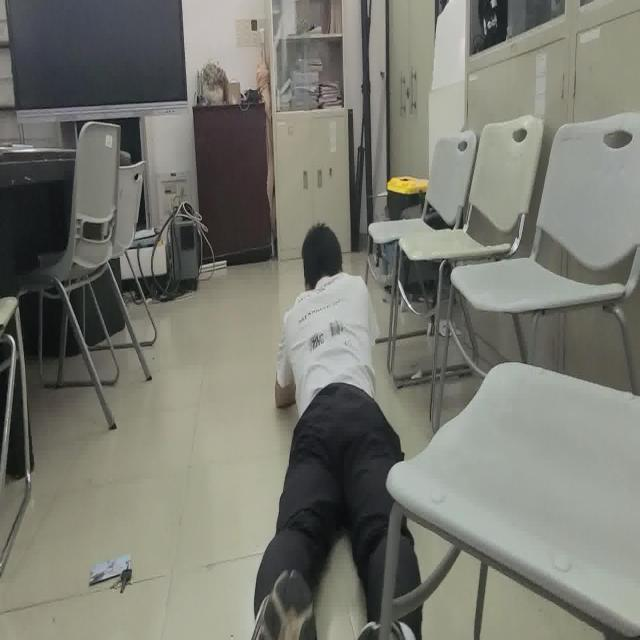fall: (252, 218, 428, 640)
